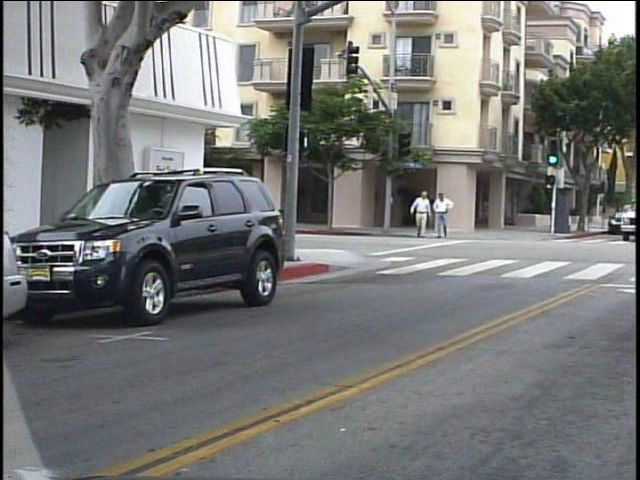person: (413, 186, 438, 245), (435, 188, 460, 243)
